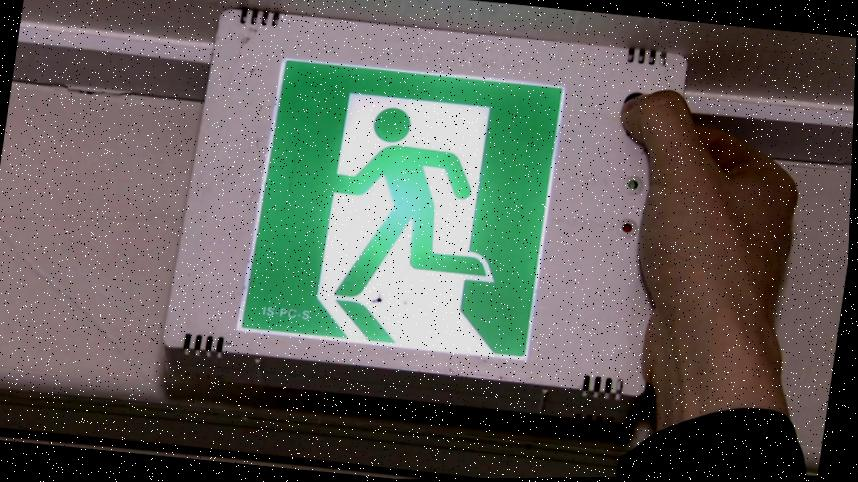emergency_exit: (162, 8, 689, 408), (236, 56, 566, 362)
